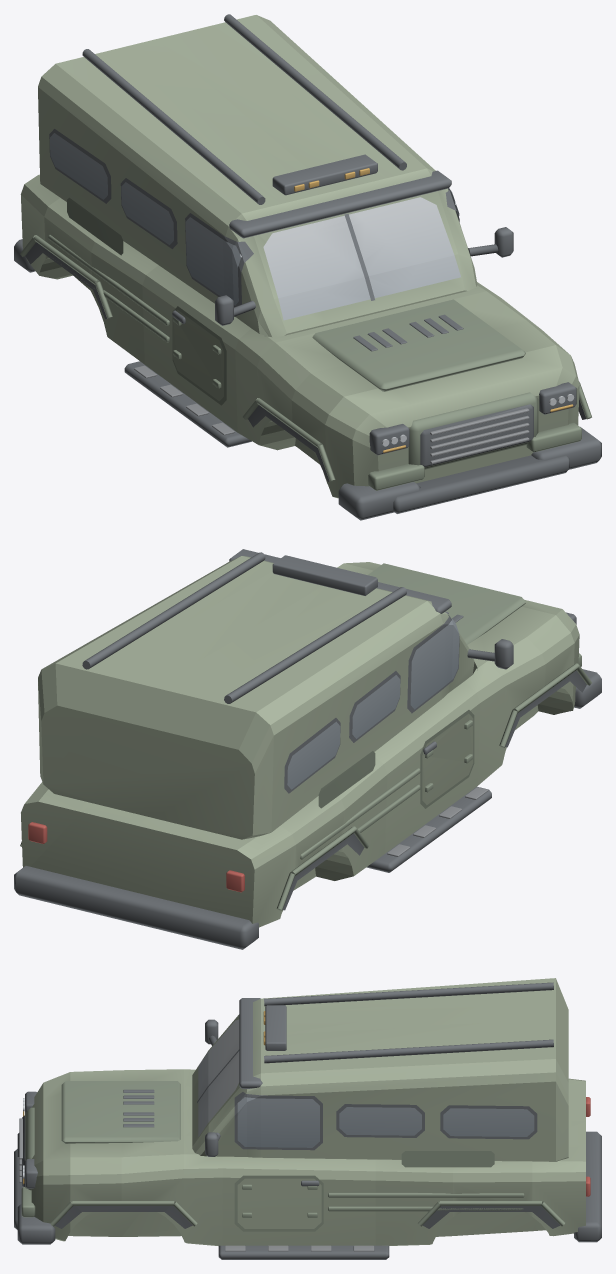
File: body.glb
3 renders of one model, top to bottom at view 1: azimuth 30°, elevation 25°; view 2: azimuth 150°, elevation 25°; view 3: azimuth 270°, elevation 25°, orthographic. The views are drawn at different scales.
Visible parts, largest first — view 1: carrier; view 2: carrier; view 3: carrier.
Part boxes in pixels (x1,y1,x2,y2): carrier: (14, 14, 601, 520); carrier: (14, 549, 601, 949); carrier: (14, 978, 601, 1259).
Bounding box in the file's own units: 2.62 × 2.02 × 5.48.
